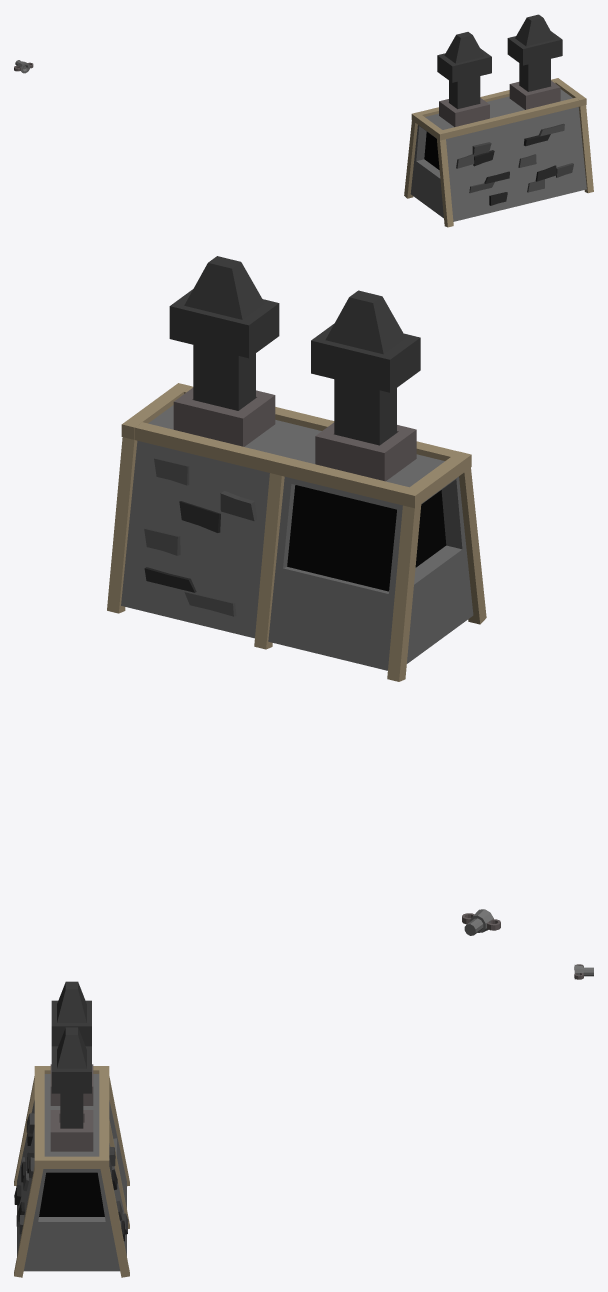
File: Seperated_Compressor.fbx
3 views of the same model, one above another, from view 1: azimuth 30°, elevation 25°; view 2: azimuth 150°, elevation 25°; view 3: azimuth 270°, elevation 25° (orthographic). The views are drawn at different scales.
Visible parts, largest first — view 1: Cube.079, Compressor.002, Compressor.001, Cube.152, Cube.088, Cube.089, Cube.150, Cube.144, Cube.148, Cube.149, Cube.151; view 2: Cube.079, Compressor.002, Compressor.001, Cube.151, Cube.088, Cube.089, Cube.148, Cube.159, Cube.146, Cube.150, Cube.149, Cube.152 (+1 smaller); view 3: Cube.079, Compressor.002, Compressor.001, Cube.088, Cube.146, Cube.144, Cube.147, Cube.151, Cube.152, Cube.148.
Boxes of the visible parts, box(x1,y1,x2,y2) form: Cube.079: box(410, 89, 586, 221); Compressor.002: box(507, 14, 562, 91); Compressor.001: box(437, 32, 491, 109); Cube.152: box(443, 97, 579, 138); Cube.088: box(509, 80, 560, 109); Cube.089: box(439, 98, 489, 126); Cube.150: box(436, 138, 453, 227); Cube.144: box(578, 105, 593, 193); Cube.148: box(404, 120, 417, 198); Cube.149: box(411, 112, 446, 140); Cube.151: box(418, 79, 555, 116); Cube.079: box(121, 405, 473, 670); Compressor.002: box(169, 256, 279, 410); Compressor.001: box(311, 290, 420, 445); Cube.151: box(135, 422, 408, 504); Cube.088: box(173, 388, 275, 446); Cube.089: box(315, 422, 416, 481); Cube.148: box(387, 504, 421, 681); Cube.159: box(254, 473, 284, 649); Cube.146: box(107, 437, 137, 613); Cube.150: box(459, 468, 486, 624); Cube.149: box(402, 451, 471, 508); Cube.152: box(184, 386, 458, 460); Cube.079: box(17, 1074, 126, 1271); Compressor.002: box(51, 1027, 91, 1128); Compressor.001: box(51, 981, 91, 1046); Cube.088: box(50, 1110, 93, 1151); Cube.146: box(100, 1167, 129, 1277); Cube.144: box(14, 1167, 43, 1277); Cube.147: box(34, 1156, 109, 1168); Cube.151: box(99, 1070, 109, 1156); Cube.152: box(34, 1070, 44, 1156); Cube.148: box(109, 1076, 129, 1186).
Size of the model in its own units: 716 by 314 by 741.
